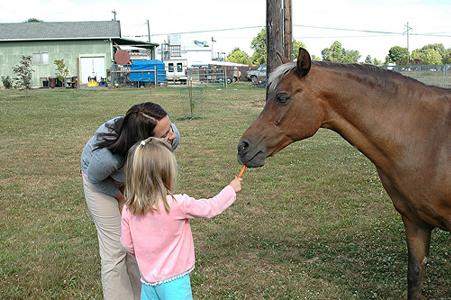person: (118, 137, 246, 299)
